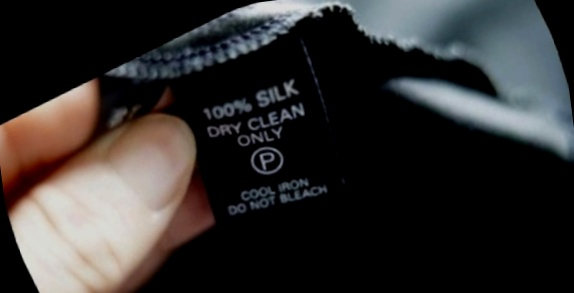dry_clean_any_solvent_except_trichloroethylene: (240, 132, 296, 186)
